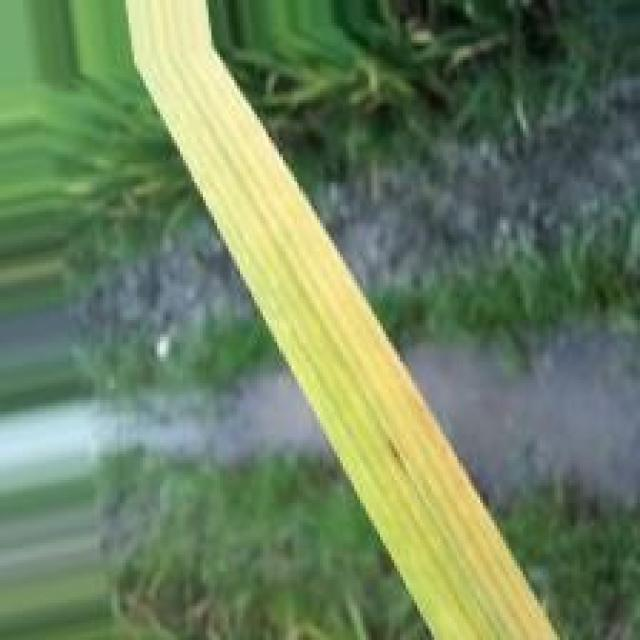Brown_Spot: (383, 433, 409, 474)
